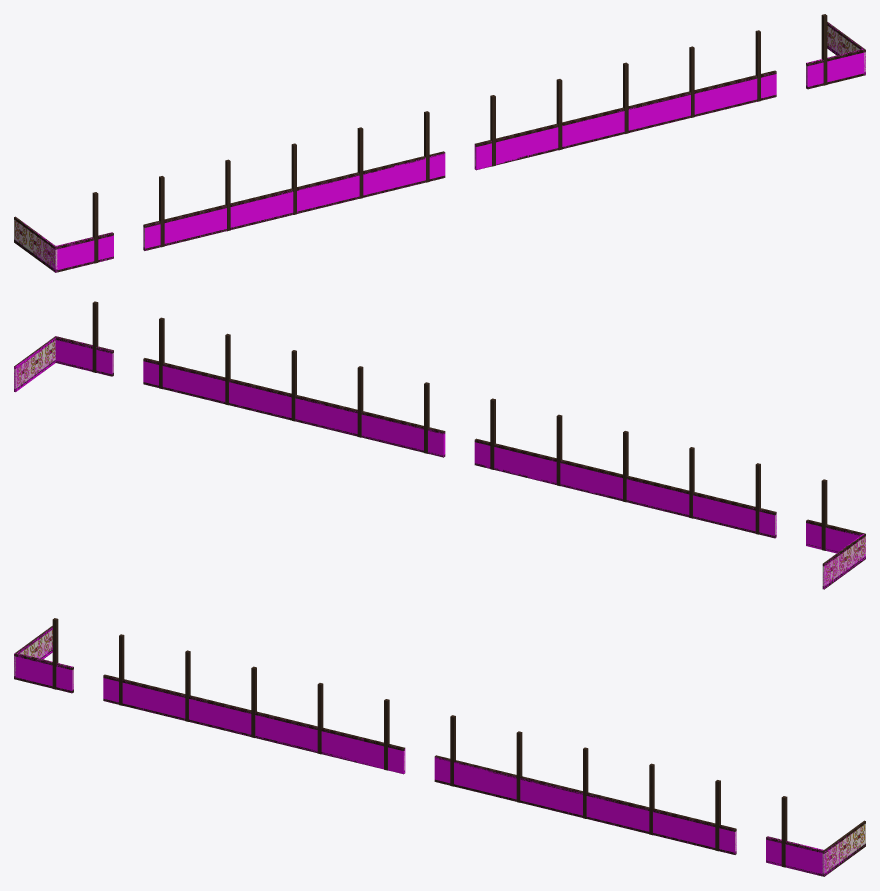
The model's file is pagar.glb.
3 renders of one model, top to bottom at view 1: azimuth 30°, elevation 25°; view 2: azimuth 150°, elevation 25°; view 3: azimuth 330°, elevation 25°, orthographic.
Visible parts, largest first — view 1: pagar_kayu, col_bal_1, col_bal_2, col_bal_0, col_bal_3, pagar_sisi_kiri_panel, pagar_sisi_kanan_panel, col_side_kiri; view 2: pagar_kayu, col_bal_2, col_bal_1, col_bal_3, col_bal_0, col_side_kiri, pagar_sisi_kiri_panel, pagar_sisi_kanan_panel, col_side_kanan; view 3: pagar_kayu, col_bal_1, col_bal_2, col_bal_3, col_bal_0, pagar_sisi_kanan_panel, pagar_sisi_kiri_panel, col_side_kanan.
Part boxes in pixels (left/top/right/bottom): pagar_kayu: left=56, top=14, right=864, bottom=272; col_bal_1: left=143, top=153, right=445, bottom=250; col_bal_2: left=474, top=72, right=776, bottom=169; col_bal_0: left=56, top=232, right=113, bottom=271; col_bal_3: left=806, top=49, right=864, bottom=88; pagar_sisi_kiri_panel: left=14, top=219, right=57, bottom=270; pagar_sisi_kanan_panel: left=827, top=26, right=865, bottom=73; col_side_kiri: left=15, top=221, right=57, bottom=272; pagar_kayu: left=55, top=301, right=864, bottom=552; col_bal_2: left=143, top=360, right=445, bottom=456; col_bal_1: left=474, top=440, right=776, bottom=537; col_bal_3: left=55, top=336, right=113, bottom=376; col_bal_0: left=806, top=520, right=861, bottom=553; col_side_kiri: left=823, top=534, right=865, bottom=588; pagar_sisi_kiri_panel: left=822, top=536, right=865, bottom=587; pagar_sisi_kanan_panel: left=14, top=340, right=55, bottom=389; col_side_kanan: left=14, top=336, right=55, bottom=392; pagar_kayu: left=15, top=618, right=824, bottom=876; col_bal_1: left=103, top=677, right=405, bottom=773; col_bal_2: left=434, top=757, right=736, bottom=854; col_bal_3: left=766, top=836, right=823, bottom=875; col_bal_0: left=15, top=653, right=73, bottom=692; pagar_sisi_kanan_panel: left=822, top=823, right=865, bottom=874; pagar_sisi_kiri_panel: left=14, top=630, right=52, bottom=676; col_side_kanan: left=822, top=828, right=863, bottom=876.
Bounding box in the file's own units: 36.68 × 3 × 3.28.
Materials: 3 (2 with a texture image).
